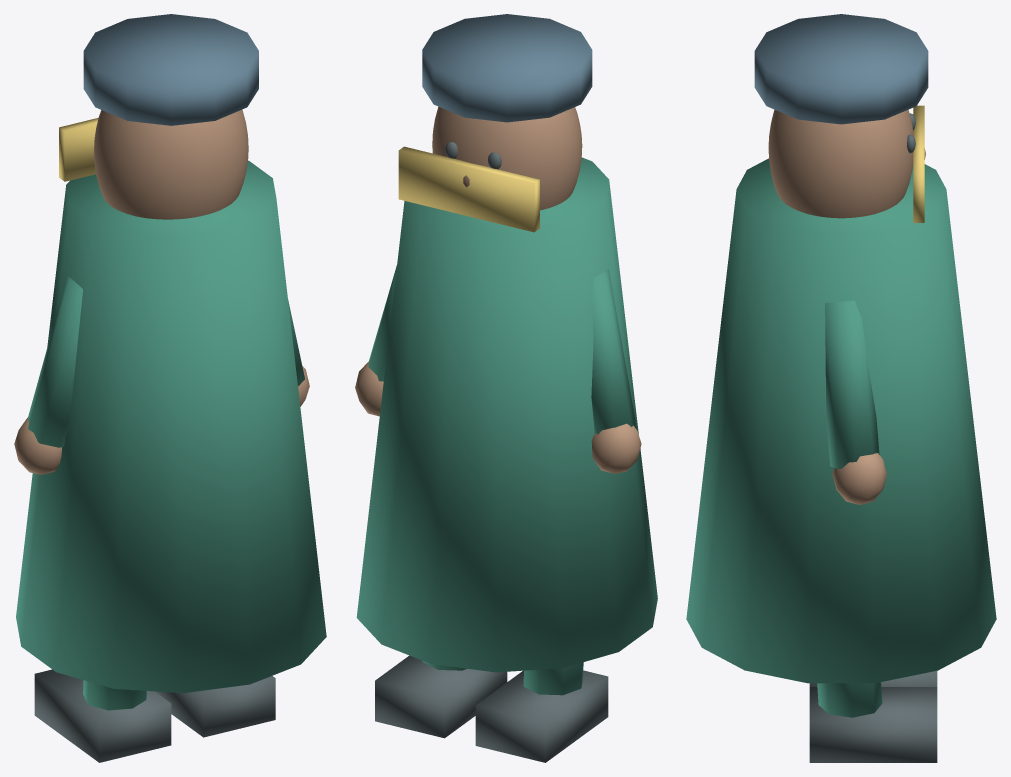
Rendered from Man in Long Sleeves.glb.
3 renders of one model, left to right at view 1: azimuth 30°, elevation 25°; view 2: azimuth 150°, elevation 25°; view 3: azimuth 270°, elevation 25°, orthographic. The views are drawn at different scales.
Parts seen in each view (by area): view 1: security_mat_00_boubou_or_uniform, security_mat_04_security_cap, security_mat_01_head, security_mat_02_eye_-1, security_mat_05_uniform_badge; view 2: security_mat_00_boubou_or_uniform, security_mat_04_security_cap, security_mat_02_eye_-1, security_mat_01_head, security_mat_05_uniform_badge; view 3: security_mat_00_boubou_or_uniform, security_mat_04_security_cap, security_mat_01_head, security_mat_02_eye_-1, security_mat_05_uniform_badge.
Part boxes in pixels (left/top/right/bottom): security_mat_00_boubou_or_uniform: left=16, top=160, right=326, bottom=710; security_mat_04_security_cap: left=83, top=14, right=258, bottom=125; security_mat_01_head: left=14, top=110, right=309, bottom=474; security_mat_02_eye_-1: left=34, top=669, right=275, bottom=762; security_mat_05_uniform_badge: left=59, top=118, right=98, bottom=181; security_mat_00_boubou_or_uniform: left=356, top=157, right=657, bottom=695; security_mat_04_security_cap: left=422, top=14, right=592, bottom=122; security_mat_02_eye_-1: left=375, top=142, right=608, bottom=762; security_mat_01_head: left=355, top=106, right=641, bottom=473; security_mat_05_uniform_badge: left=398, top=146, right=539, bottom=232; security_mat_00_boubou_or_uniform: left=686, top=158, right=996, bottom=717; security_mat_04_security_cap: left=754, top=14, right=928, bottom=124; security_mat_01_head: left=768, top=109, right=913, bottom=504; security_mat_02_eye_-1: left=809, top=113, right=937, bottom=762; security_mat_05_uniform_badge: left=913, top=105, right=924, bottom=222.
Size of the model in its own units: 0.72 by 1.62 by 0.68.
